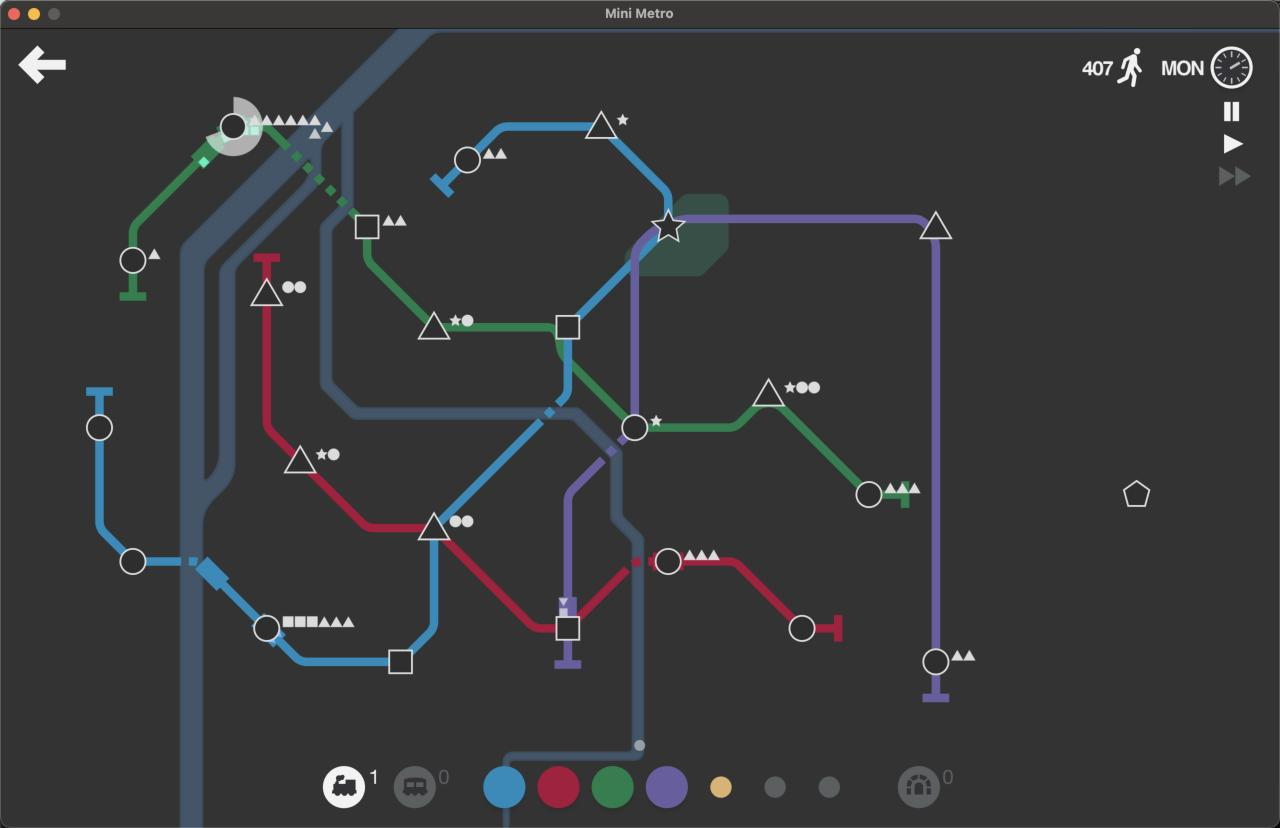CIRCLE: (219, 112, 248, 142), (252, 614, 281, 643), (654, 547, 683, 576), (119, 246, 148, 275), (788, 614, 816, 643), (855, 480, 883, 509), (922, 647, 950, 676), (119, 547, 147, 576), (621, 414, 649, 443), (86, 414, 114, 442), (454, 146, 481, 174)
PENTAGON: (1123, 480, 1151, 507)
SQUARE: (353, 214, 380, 240), (387, 648, 413, 675), (555, 614, 581, 641), (555, 314, 581, 340)
STAR: (650, 208, 685, 243)
TRIANGLE: (416, 510, 452, 542), (416, 309, 451, 341), (250, 276, 284, 308), (919, 209, 954, 240), (283, 444, 317, 475), (585, 109, 618, 140), (752, 378, 785, 407)
